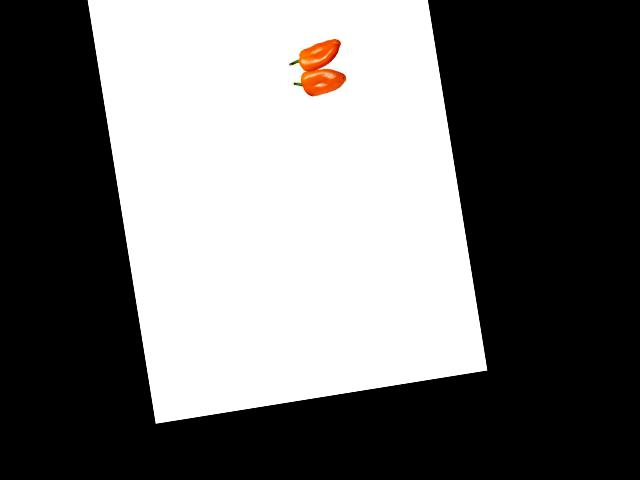bell_pepper: (290, 62, 359, 104)
